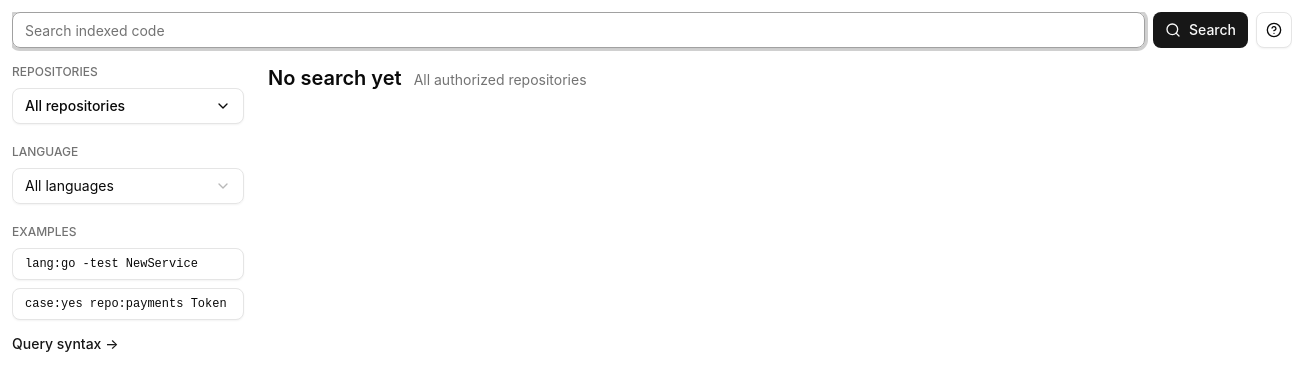
Test: SearchPage › shows a structured API error without clearing the query, with Retry only when retryable
In the search field named "Search code": (578, 30) [12, 12, 1145, 48], type "lang:go Foo"
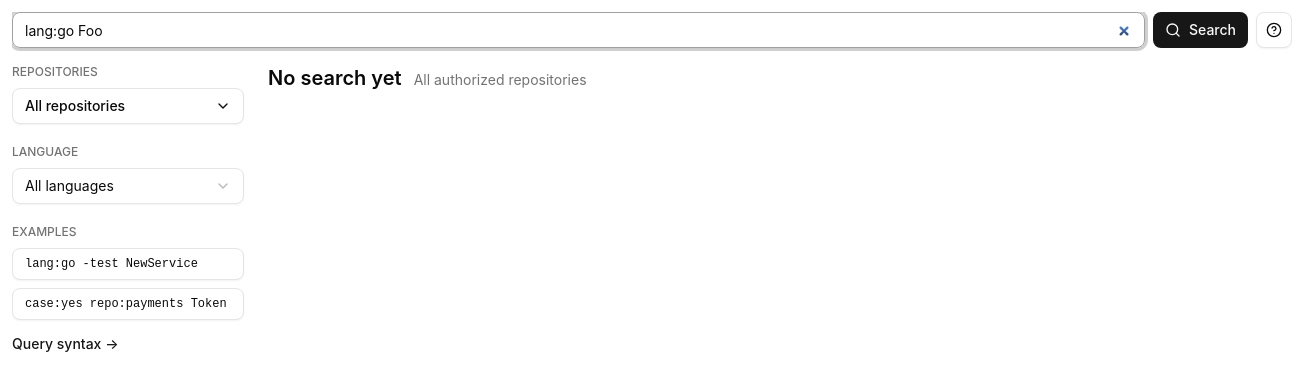
Click the button "Search": click(1200, 30) [1153, 12, 1248, 48]
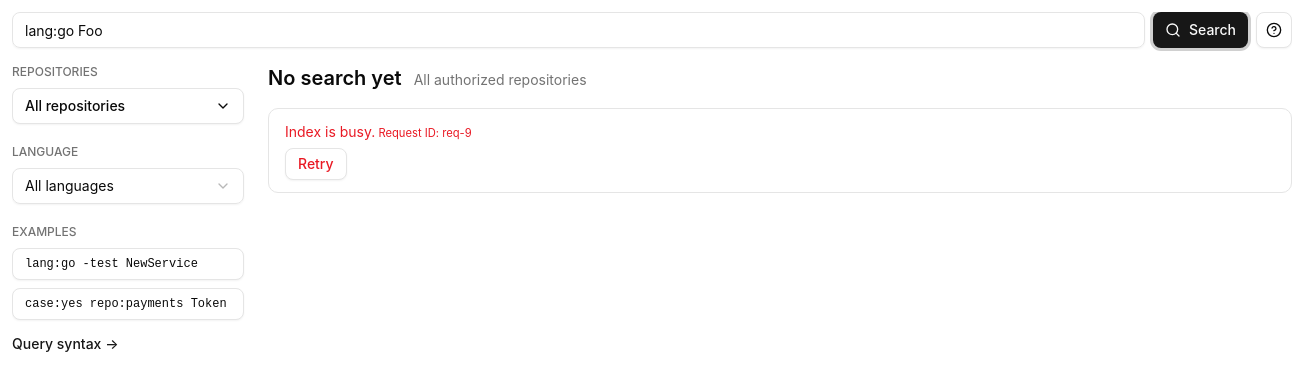
expect the message shows "Index is busy.": met, box [285, 123, 375, 140]
expect the message shows "Request ID: req-9": met, box [268, 108, 1292, 193]
Click the button "Retry": click(316, 164) [285, 148, 347, 180]
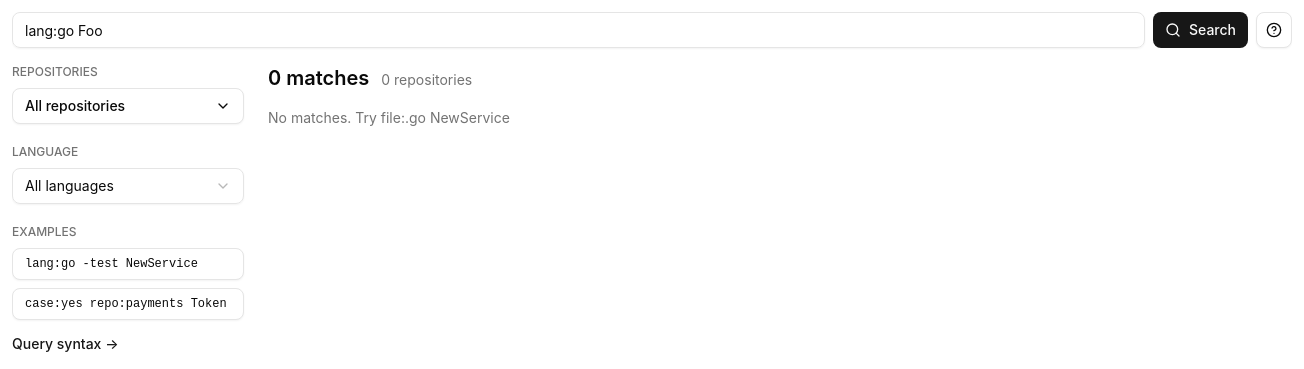
expect the text "No matches. Try file:.go NewService" is shown: met, box [268, 109, 510, 126]
expect the message "Index is busy.Request ID: req-9 Retry" is gone: met
